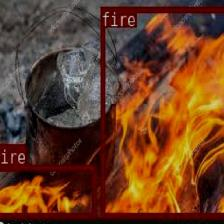fire: (100, 5, 224, 217), (0, 164, 96, 218)
